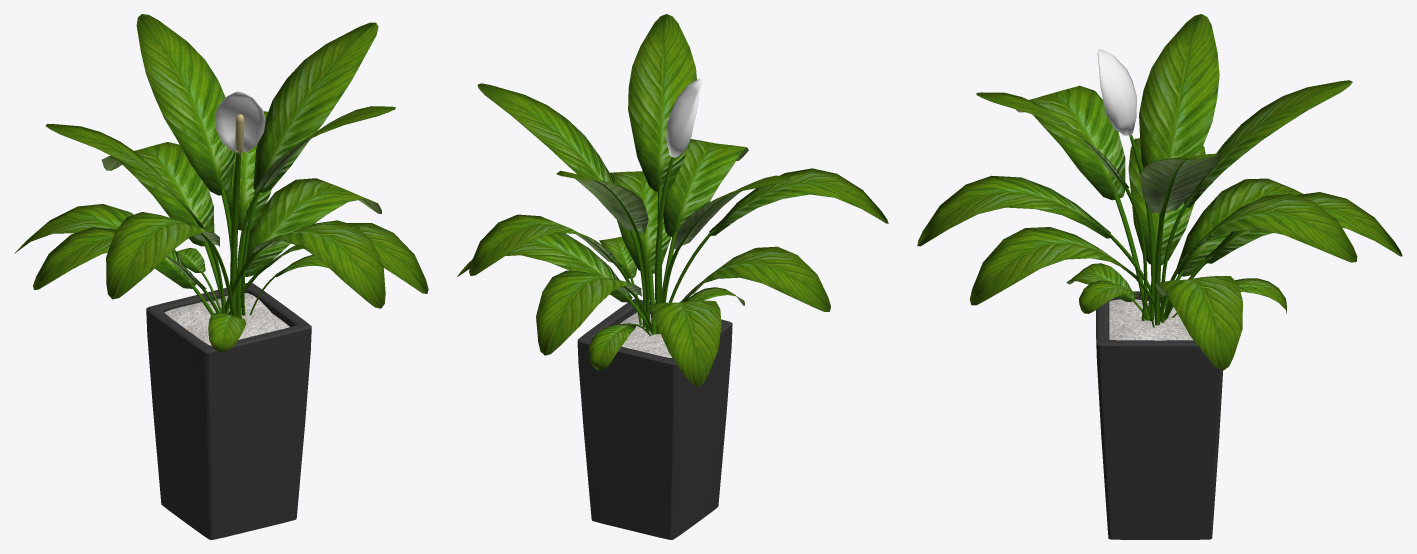
Rendered from plants_are_nice.glb.
3 views of the same model, side by side, from view 1: azimuth 30°, elevation 25°; view 2: azimuth 150°, elevation 25°; view 3: azimuth 270°, elevation 25° (orthographic). The views are drawn at different scales.
Parts seen in each view (by area): view 1: low, pot; view 2: low, pot; view 3: low, pot.
Part boxes in pixels (<box>): low: <box>14,14,428,352</box>; pot: <box>146,283,311,539</box>; low: <box>457,14,888,386</box>; pot: <box>577,299,732,539</box>; low: <box>917,14,1402,370</box>; pot: <box>1096,291,1222,539</box>.
Size of the model in its own units: 236 by 273 by 260.
Materials: 2 (2 with a texture image).
